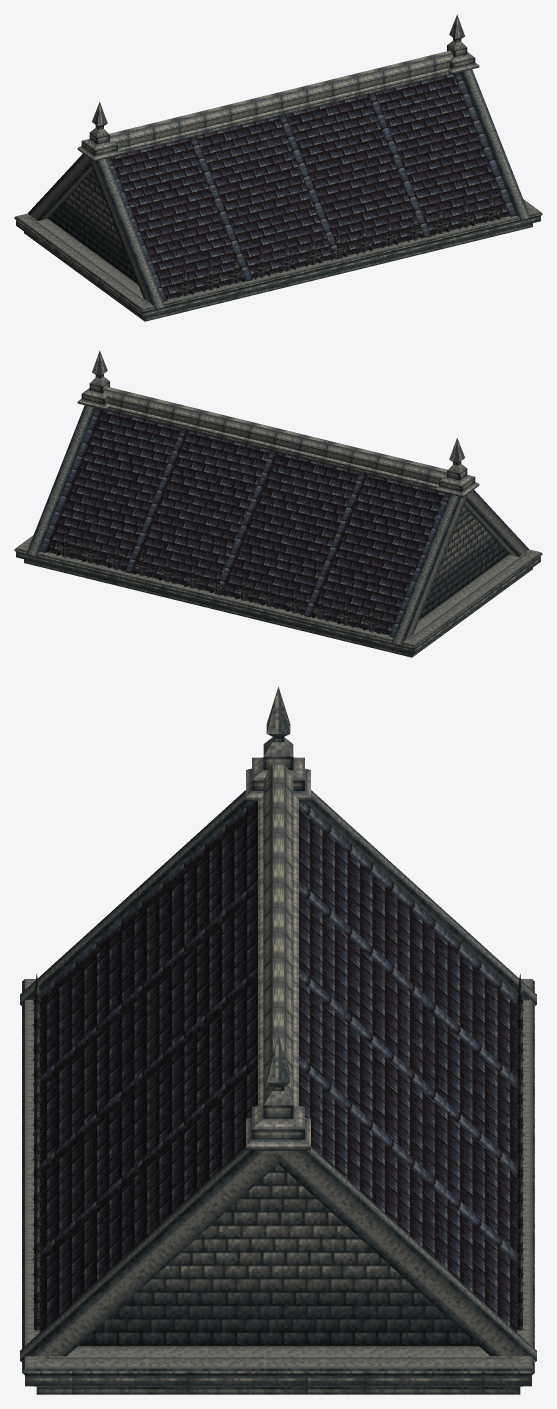
Rendered from EnvBdgMD_Castle_Rain_A_Roof_B.FBX.
3 renders of one model, top to bottom at view 1: azimuth 30°, elevation 25°; view 2: azimuth 150°, elevation 25°; view 3: azimuth 270°, elevation 25°, orthographic. The views are drawn at different scales.
Visible parts, largest first — view 1: EnvBdgMD_Castle_Rain_A_Roof_B; view 2: EnvBdgMD_Castle_Rain_A_Roof_B; view 3: EnvBdgMD_Castle_Rain_A_Roof_B.
Part boxes in pixels (left/top/right/bottom): EnvBdgMD_Castle_Rain_A_Roof_B: left=14, top=14, right=542, bottom=321; EnvBdgMD_Castle_Rain_A_Roof_B: left=14, top=350, right=542, bottom=657; EnvBdgMD_Castle_Rain_A_Roof_B: left=20, top=686, right=536, bottom=1394.
Bounding box in the file's own units: 1570 × 650 × 877.
